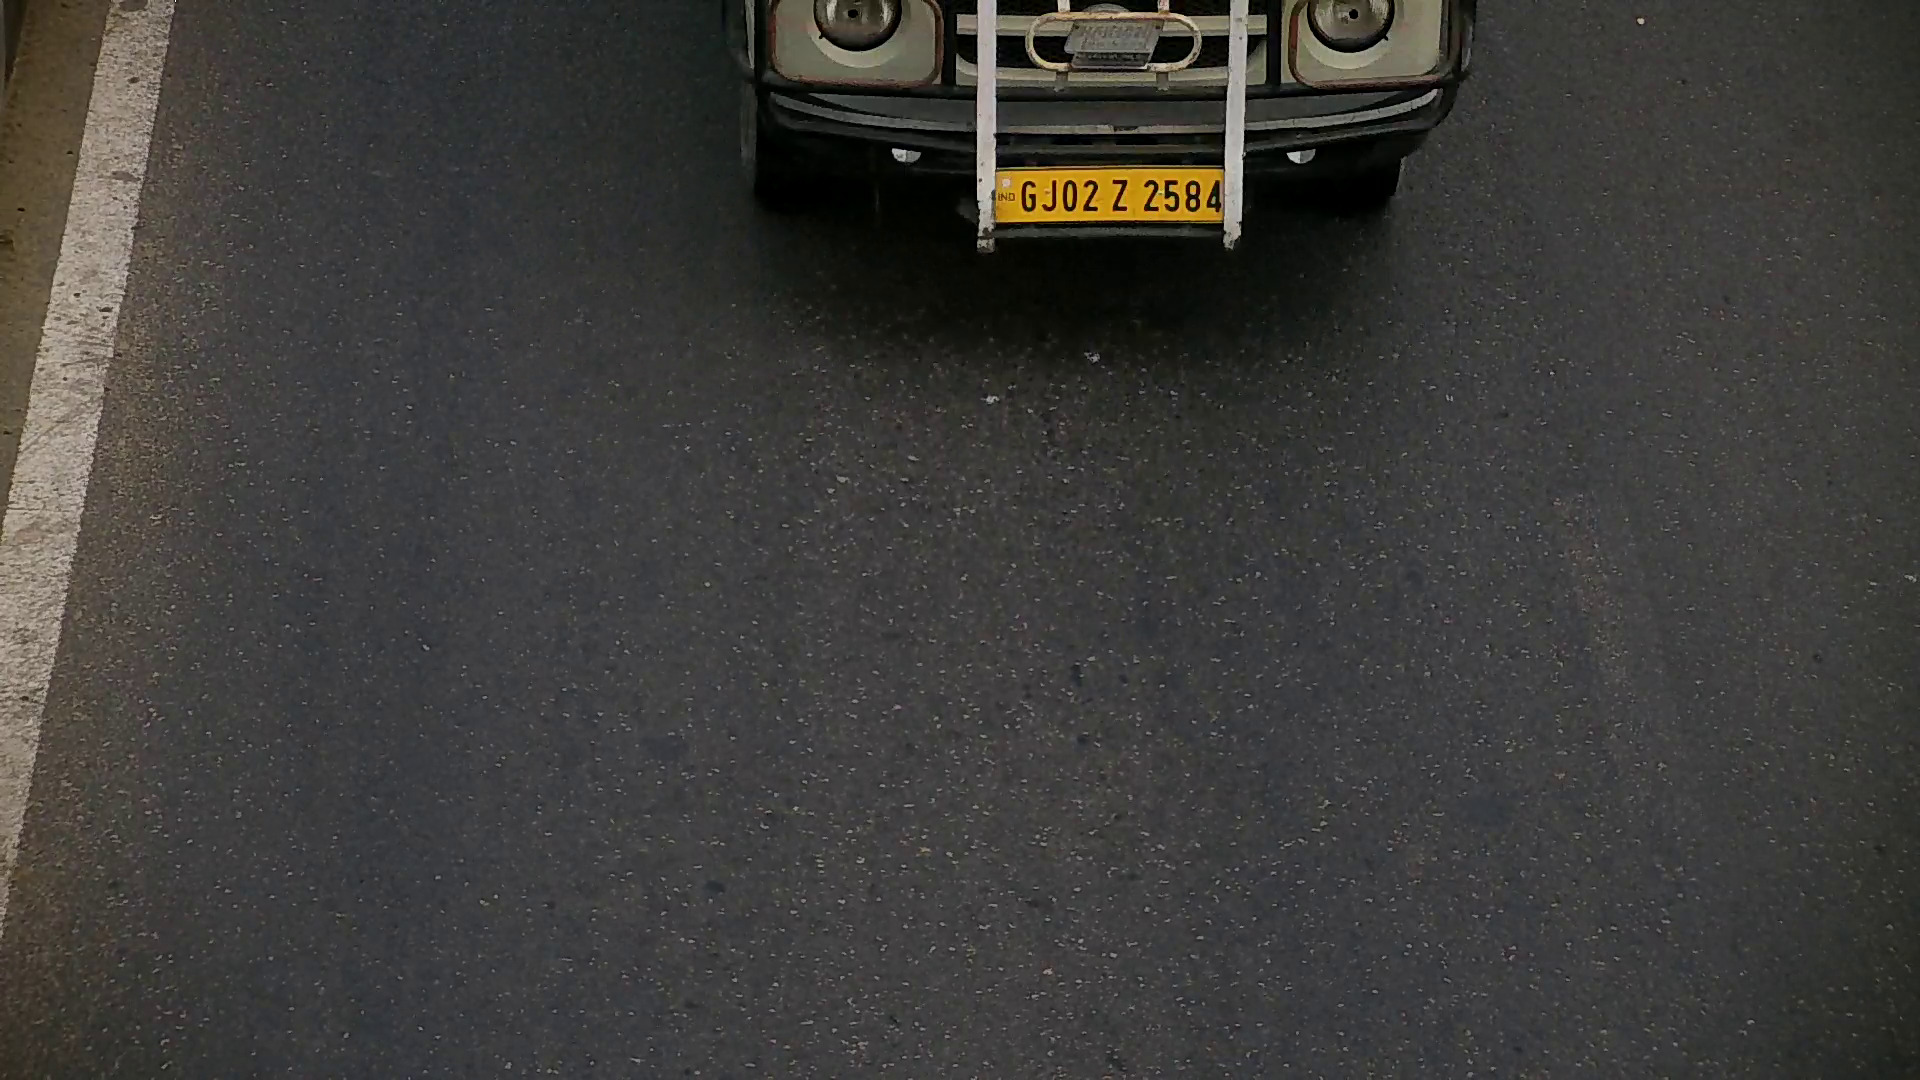numberplate: (1001, 161, 1227, 226)
